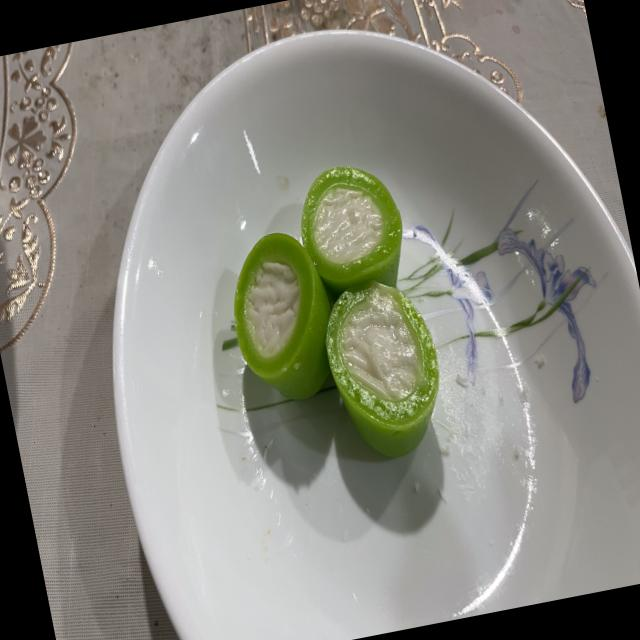nona-manis: (326, 282, 439, 457), (234, 233, 331, 400), (301, 166, 403, 299)
